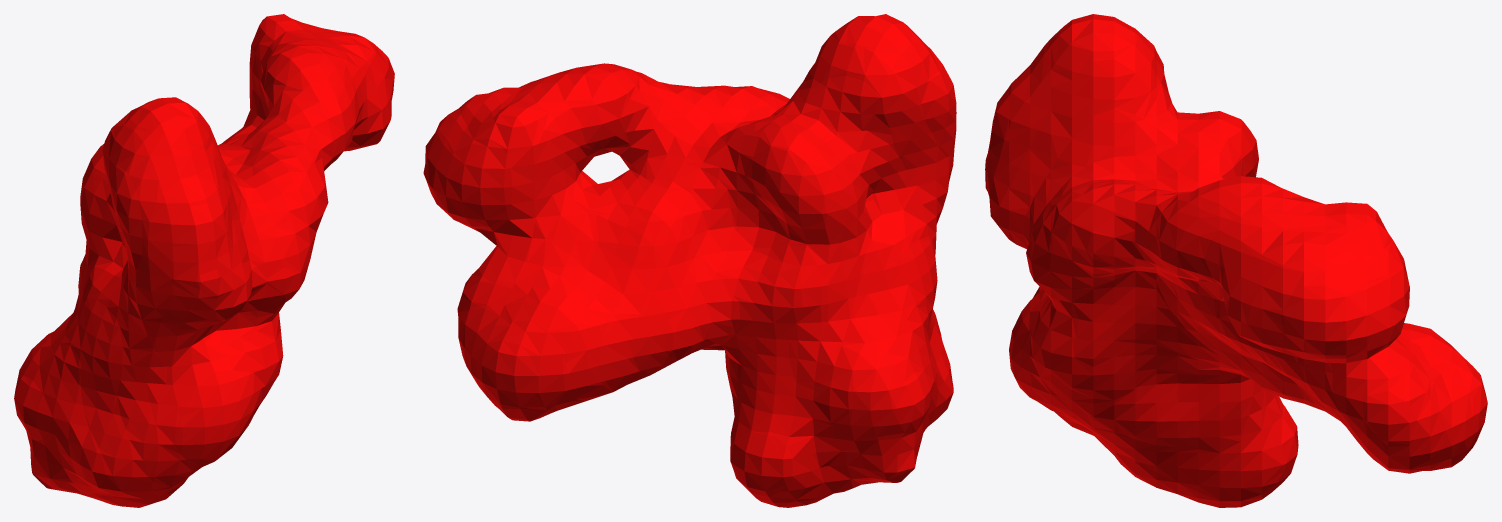
File: yecA_coarse.dae
3 renders of one model, left to right at view 1: azimuth 30°, elevation 25°; view 2: azimuth 150°, elevation 25°; view 3: azimuth 270°, elevation 25°, orthographic. The views are drawn at different scales.
Visible parts, largest first — view 1: yecA; view 2: yecA; view 3: yecA.
Part boxes in pixels (bbox=[...]): yecA: bbox=[14, 14, 394, 507]; yecA: bbox=[423, 14, 956, 507]; yecA: bbox=[985, 14, 1487, 507].
Bounding box in the file's own units: 61.99 × 61.17 × 58.85.
